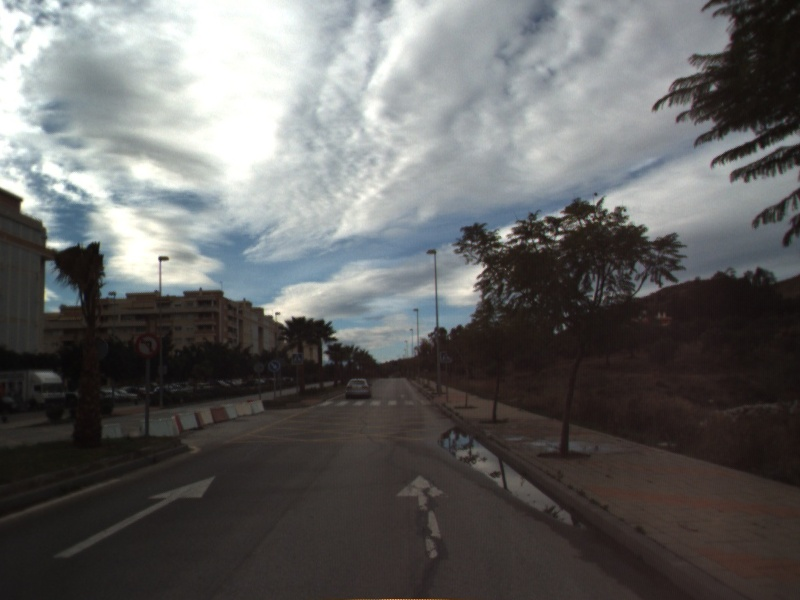STRAIGHT: (51, 474, 218, 560), (393, 472, 452, 560)
